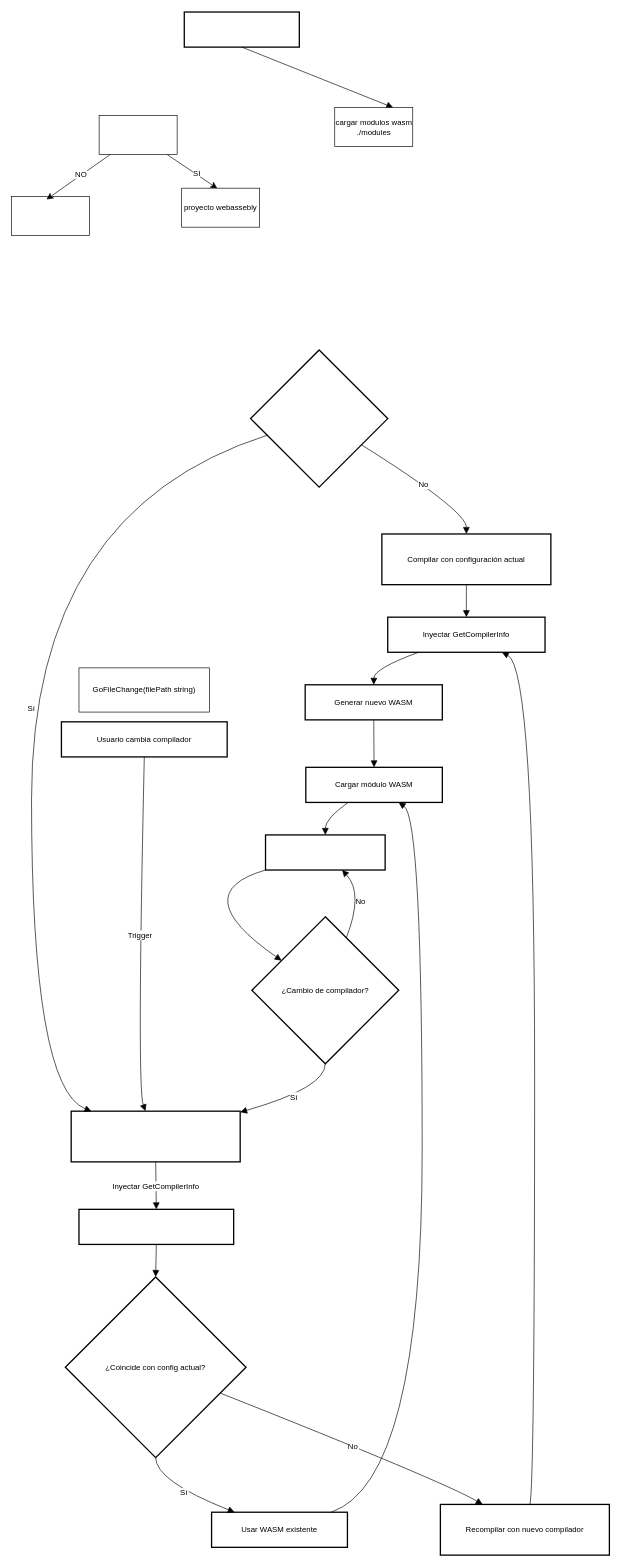
Image size: 621x1567. Some labels were removed from this diagram. The box of each missing label's shape, as (x1, y1, x2, y2) in pixels:
App en ejecución: (265, 834, 385, 870)
Ejecutar WASM con Node: (78, 1208, 234, 1245)
existe? web/main.wasm.go: (98, 115, 177, 154)
GoDev Start: (183, 11, 300, 47)
Verificar tipo de compilador: (70, 1110, 240, 1162)
¿Existe archivo WASM?: (250, 349, 388, 488)
